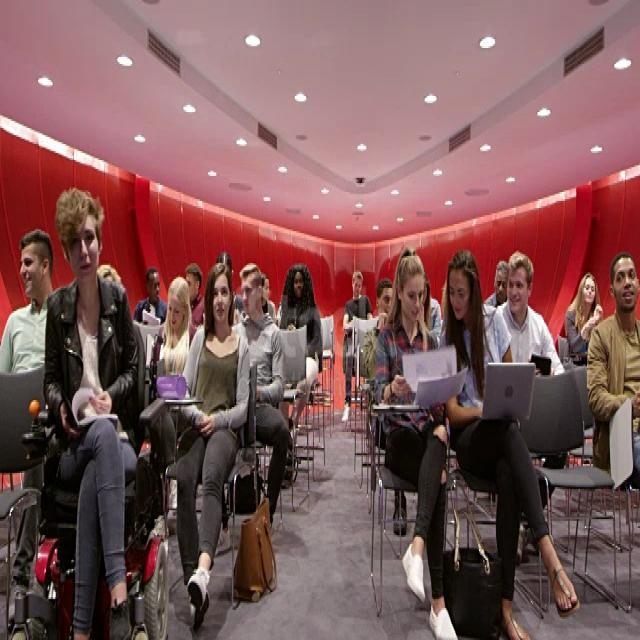Looking away: (448, 267, 472, 322), (20, 247, 43, 300), (402, 273, 424, 324), (508, 267, 528, 311), (240, 275, 260, 314), (166, 287, 184, 330), (378, 284, 394, 318), (184, 270, 200, 302), (146, 272, 160, 303), (352, 276, 362, 298)
Looking forward: (68, 217, 97, 280), (614, 257, 638, 314), (211, 274, 231, 323), (494, 270, 508, 301), (584, 278, 596, 304), (294, 270, 304, 300)
